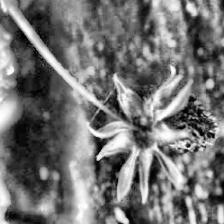Gray Mold: (85, 65, 220, 204)
